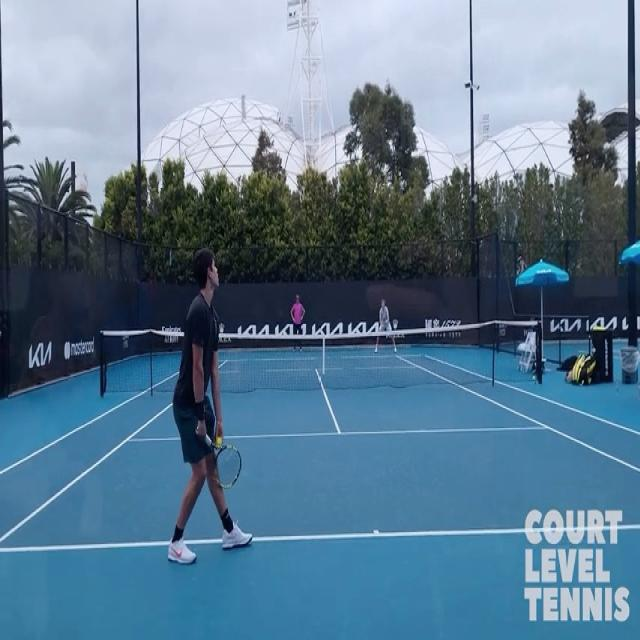serve_ready: (157, 255, 250, 567)
